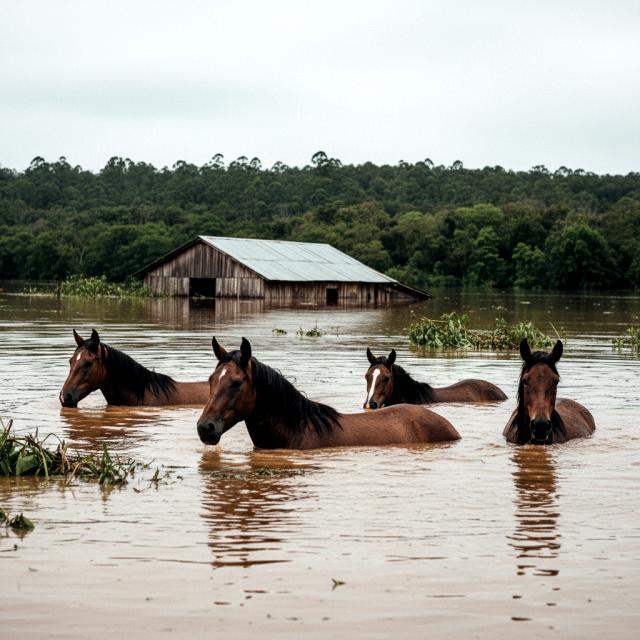horse: (183, 330, 466, 463), (46, 323, 222, 419), (341, 339, 508, 418), (494, 326, 597, 447)
